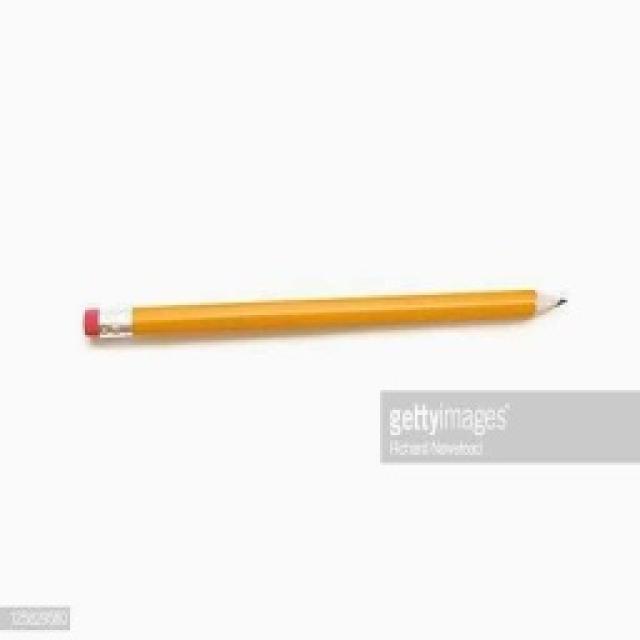pencil: (78, 283, 568, 345)
